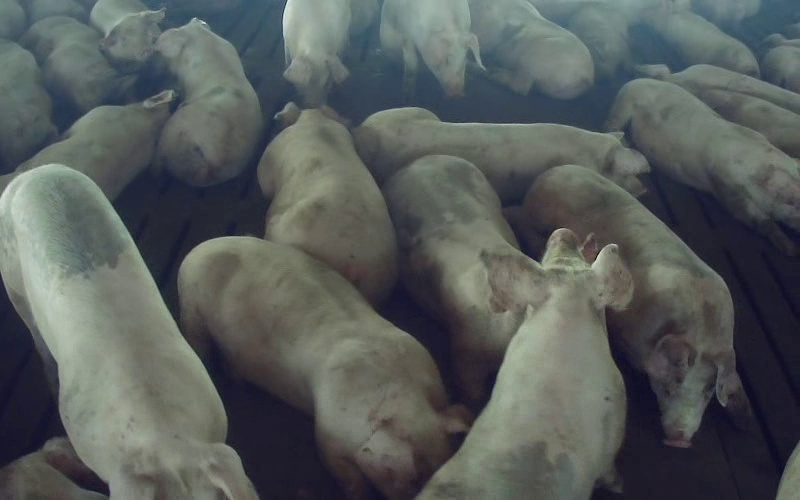pig: (179, 237, 467, 499), (506, 165, 749, 446), (420, 229, 632, 499), (382, 155, 521, 403), (605, 78, 799, 254), (353, 107, 649, 202), (258, 103, 397, 302), (0, 90, 173, 199), (155, 18, 262, 186), (469, 0, 593, 98), (380, 0, 483, 98), (20, 16, 120, 114), (283, 0, 350, 107), (90, 0, 164, 71)
